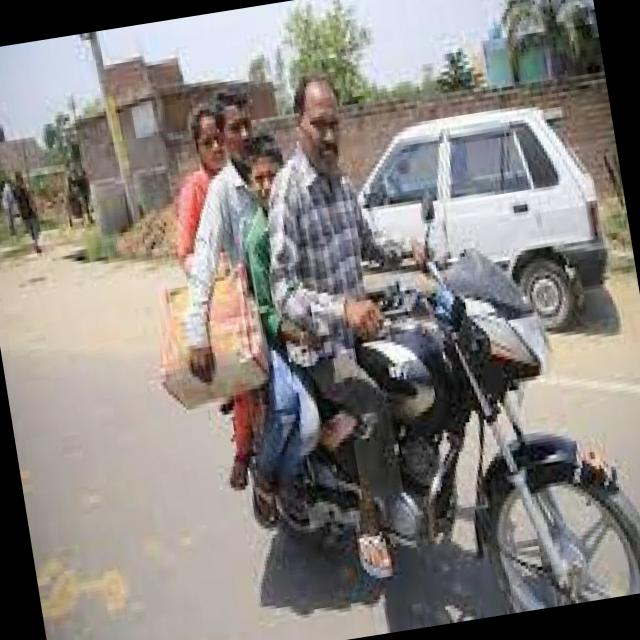motorcycle: (179, 211, 640, 640)
person: (234, 56, 447, 516), (195, 128, 338, 432), (198, 79, 306, 419), (148, 89, 280, 356)
rider_region: (150, 27, 640, 640)
